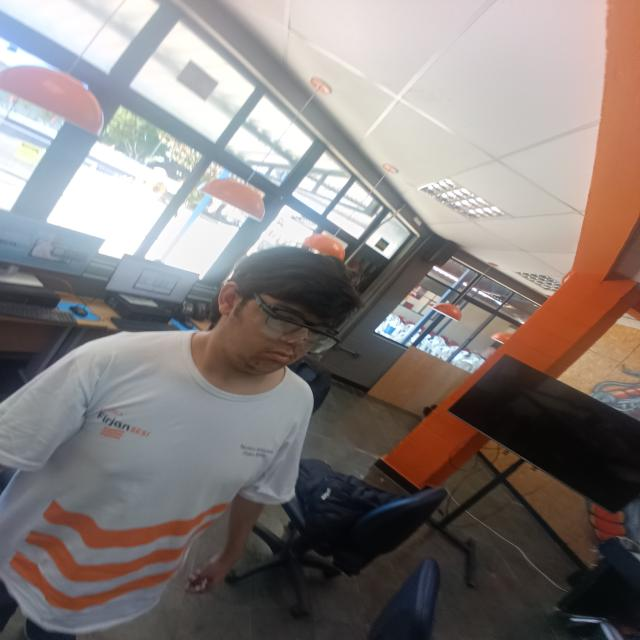oculos-epi: (236, 282, 343, 356)
